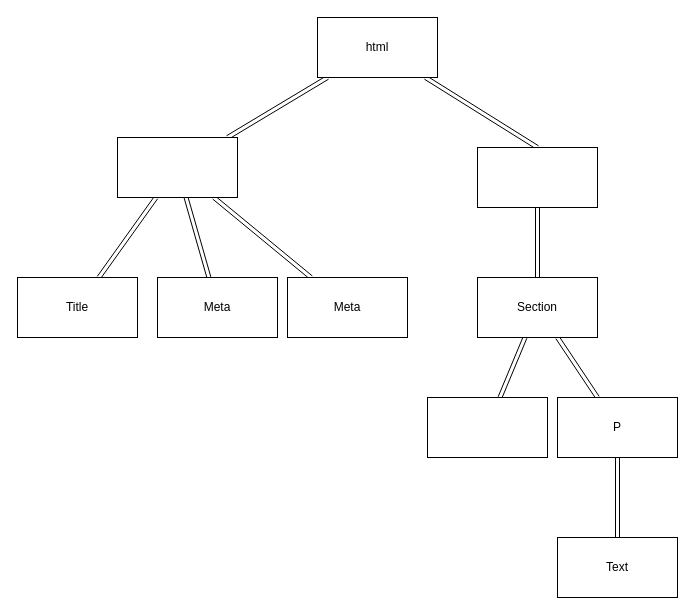
Image size: 695x615. Some labels were removed from this diagram. The shapes that lost their labels are listed below. From the top down, each one's centre as x and y in pixels, then its label:
the point at 177,167: Head
the point at 537,177: Body
the point at 487,427: H2
